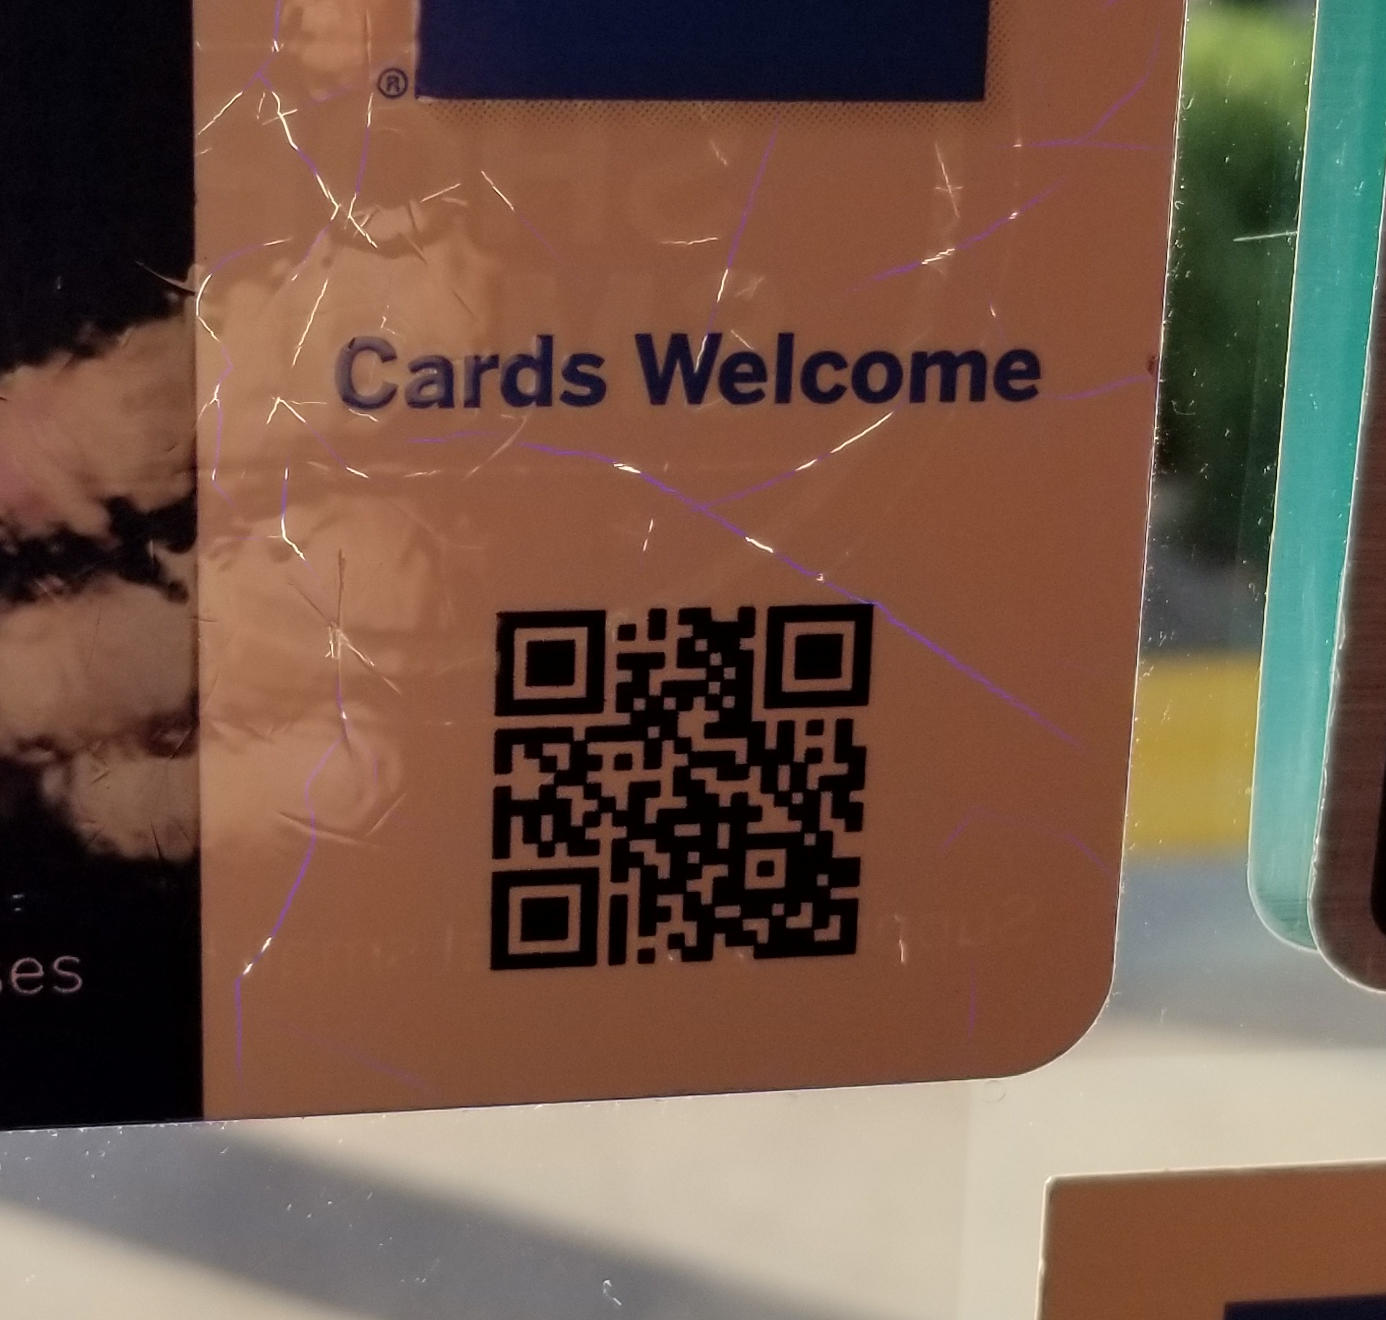QR_CODE: (445, 543, 896, 985)
